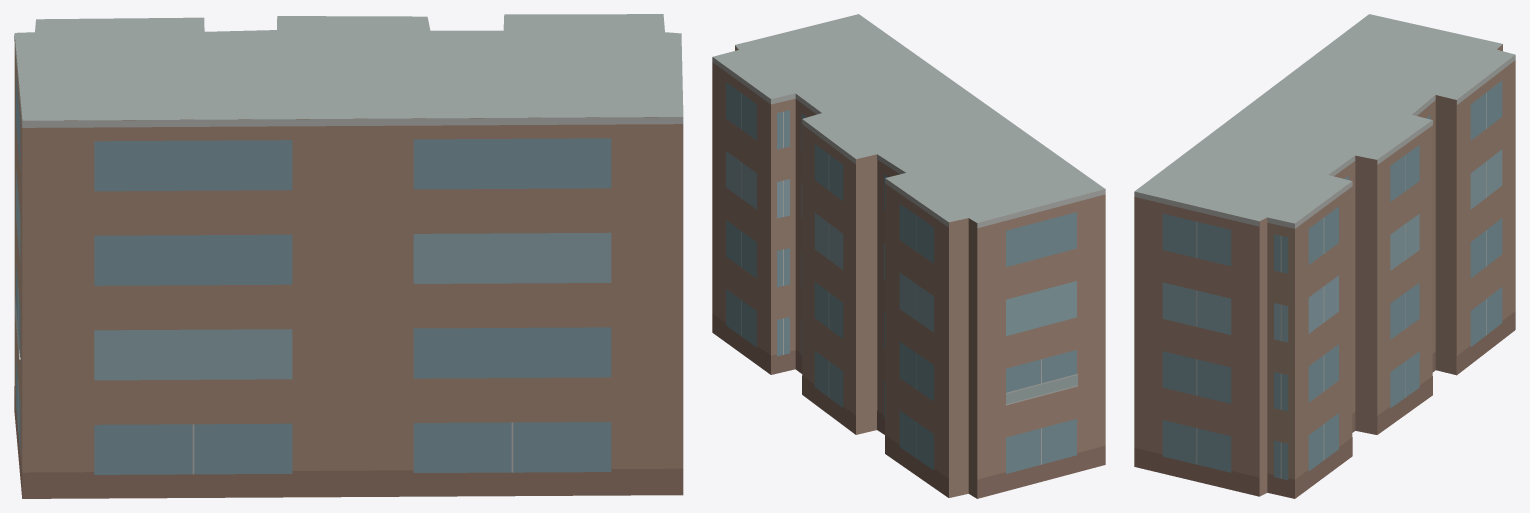
File: survey-upis-32555749.glb
The picture shows the model from 3 angles, left to right: view 1: azimuth 30°, elevation 25°; view 2: azimuth 150°, elevation 25°; view 3: azimuth 270°, elevation 25°; orthographic projection. The views are drawn at different scales.
Parts seen in each view (by area): view 1: survey-upis-32555749.tmp; view 2: survey-upis-32555749.tmp; view 3: survey-upis-32555749.tmp.
Part boxes in pixels (x1,y1,x2,y2): survey-upis-32555749.tmp: (14, 14, 683, 498); survey-upis-32555749.tmp: (712, 14, 1105, 498); survey-upis-32555749.tmp: (1134, 14, 1515, 498).
Bounding box in the file's own units: 20.92 × 12.8 × 16.08.
